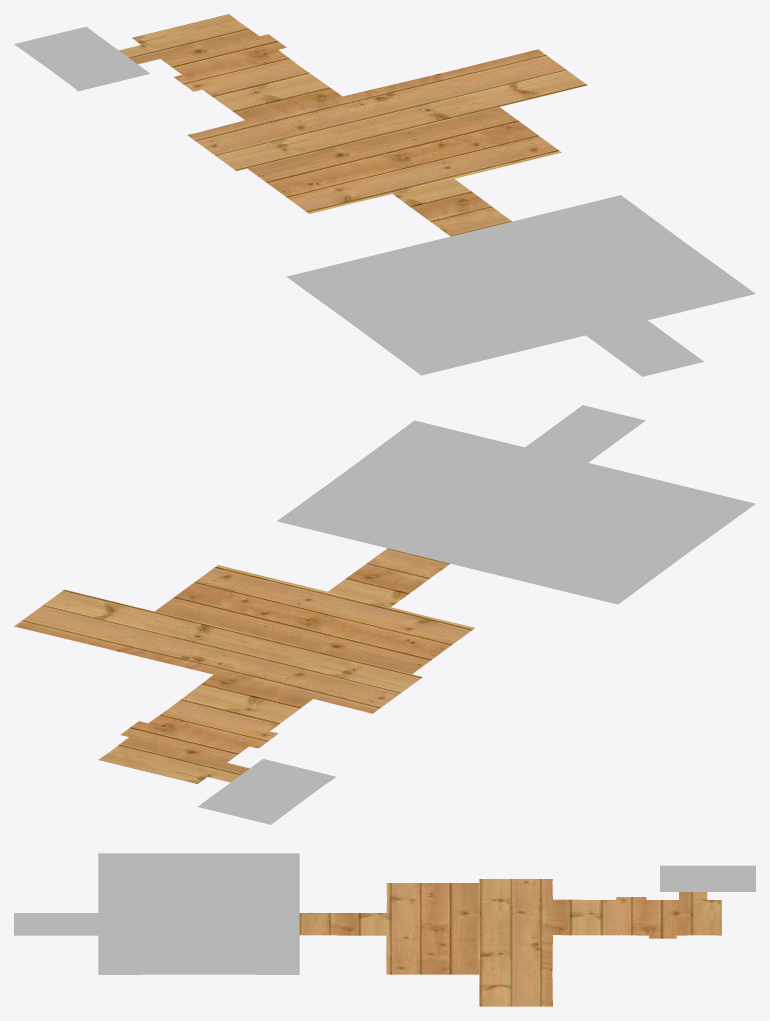
File: Floor_Full01_v2.FBX
3 views of the same model, one above another, from view 1: azimuth 30°, elevation 25°; view 2: azimuth 150°, elevation 25°; view 3: azimuth 270°, elevation 25° (orthographic). The views are drawn at different scales.
Visible parts, largest first — view 1: Object052, Object050, Object051; view 2: Object052, Object050, Object051; view 3: Object052, Object050, Object051.
Part boxes in pixels (<box>): Object052: <box>286,195,755,376</box>; Object050: <box>119,14,587,236</box>; Object051: <box>14,26,150,91</box>; Object052: <box>277,405,755,604</box>; Object050: <box>14,548,474,783</box>; Object051: <box>198,759,336,824</box>; Object052: <box>14,853,299,974</box>; Object050: <box>299,879,721,1006</box>; Object051: <box>660,865,755,891</box>.
Bounding box in the file's own units: 3227 × 4.23 × 6592.
